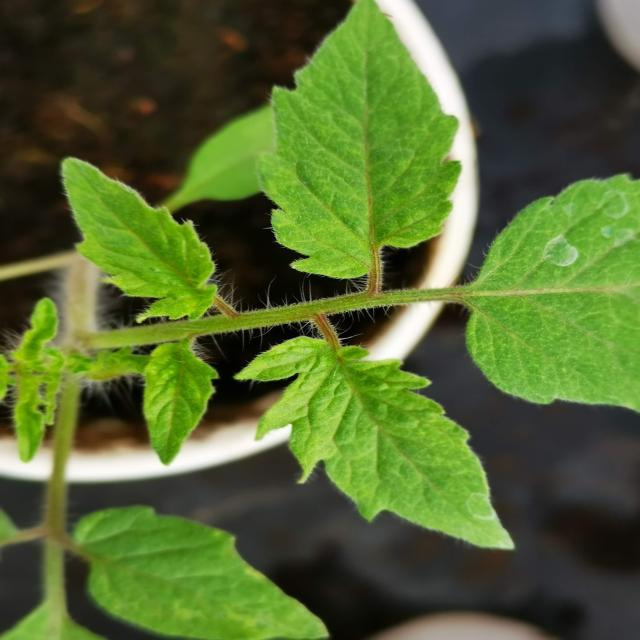T_L_R: (234, 337, 515, 550), (258, 1, 462, 279), (457, 175, 640, 416), (73, 505, 332, 640), (63, 159, 218, 325), (143, 340, 221, 468)
T_S_R: (84, 289, 461, 351)
